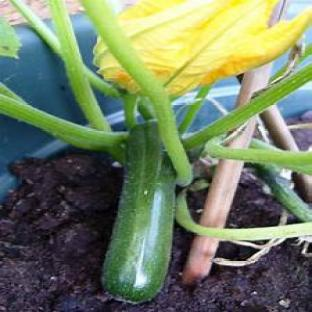Zucchini: (103, 121, 176, 302), (253, 165, 311, 222)
